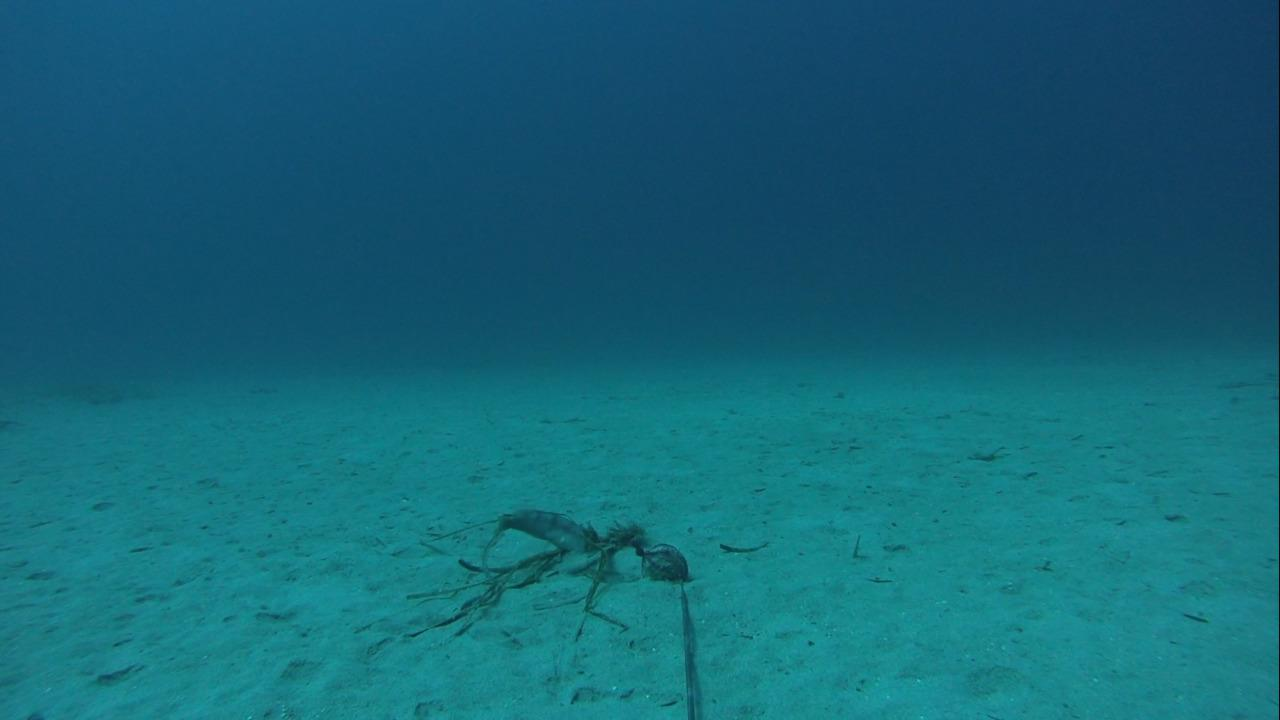raor: (491, 501, 595, 562)
